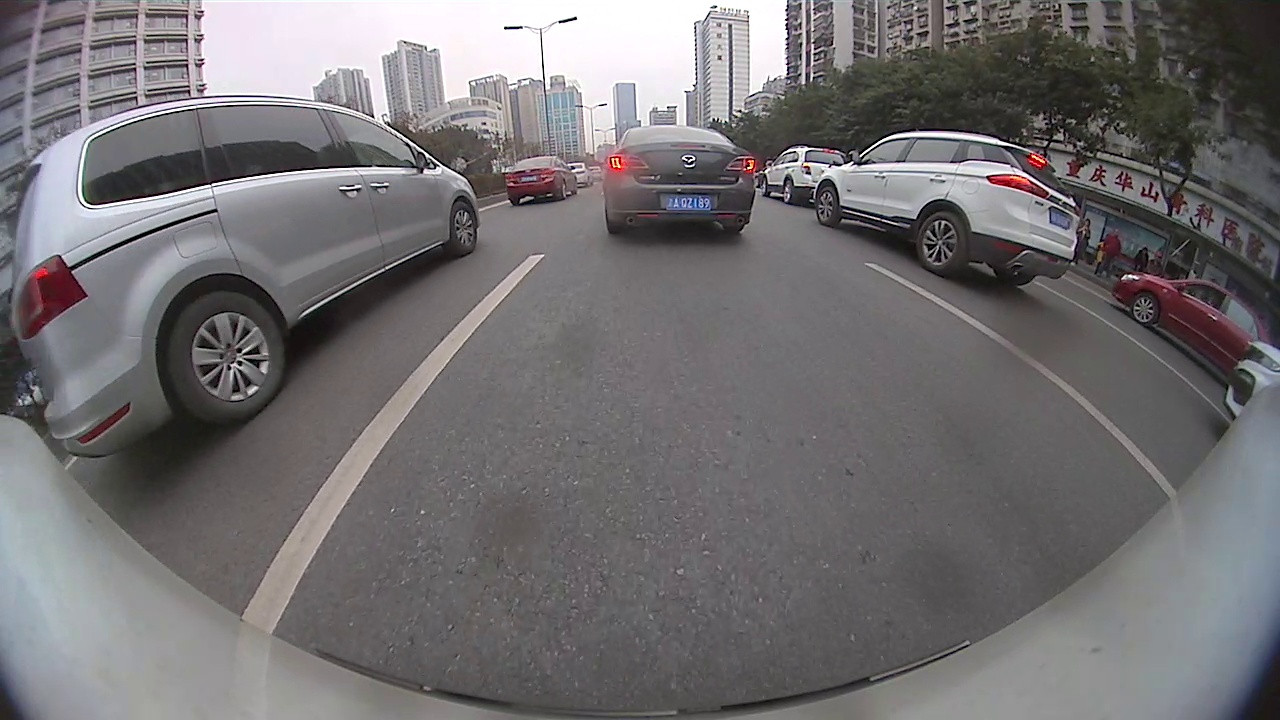car: (12, 95, 480, 458), (811, 127, 1081, 288), (602, 122, 756, 240), (1112, 270, 1272, 381), (757, 145, 851, 205), (1220, 342, 1278, 423), (502, 154, 573, 205), (568, 158, 589, 188), (584, 164, 603, 183)
front: (449, 193, 478, 257), (1128, 287, 1159, 329), (814, 185, 840, 224), (758, 170, 769, 195)
person: (1105, 225, 1120, 279), (1078, 216, 1091, 268), (1138, 245, 1149, 271), (1154, 250, 1164, 278)
rear: (163, 291, 287, 427), (915, 211, 967, 272), (781, 176, 796, 204)
